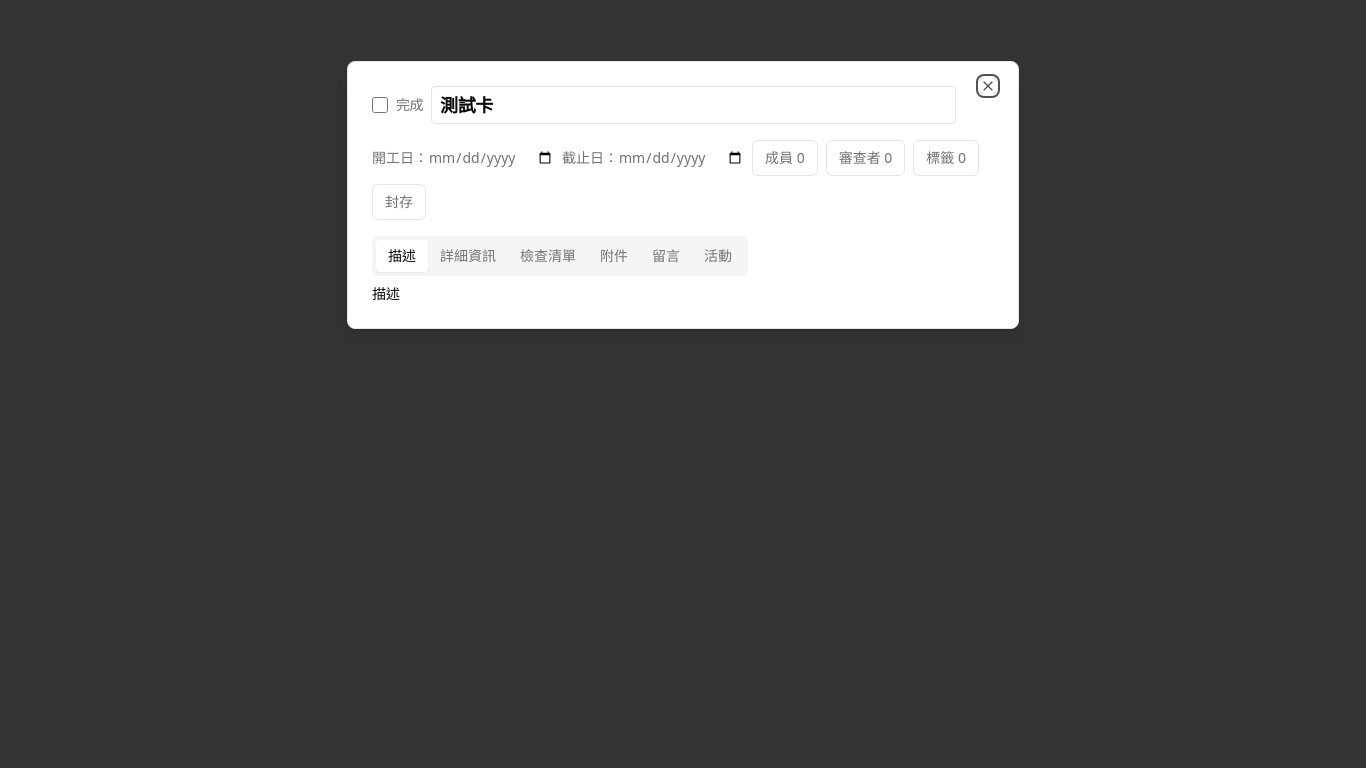
Test: 成員/標籤樂觀 toggle（#10） › 連點競態：快速 toggle 序列以最新 cache 計算 payload，最終 members 為 {B} 且 checkbox 回應前翻動
Press the mouse on the button "成員 0" at (785, 158), box [752,140,818,176]
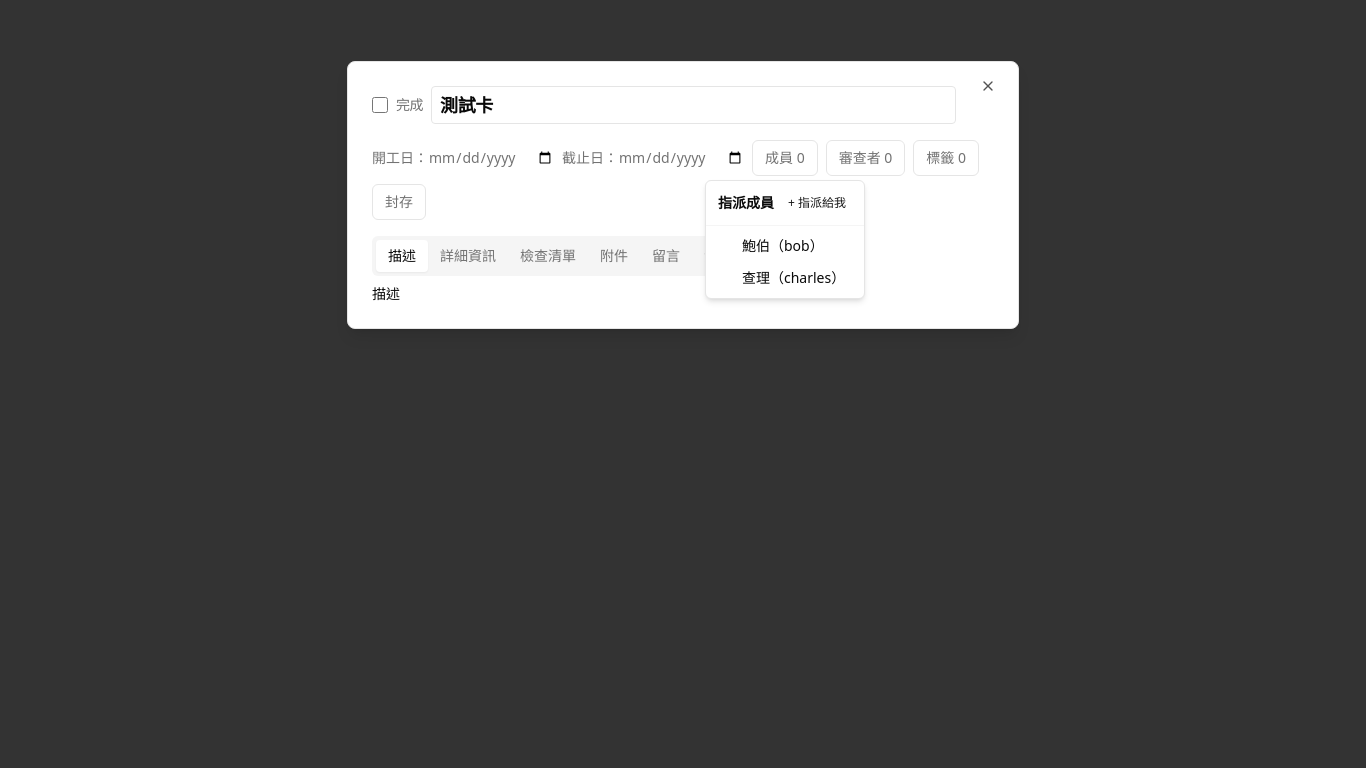
Click the menu item "鮑伯（bob）".
click(783, 246)  # box [742,236,824,255]
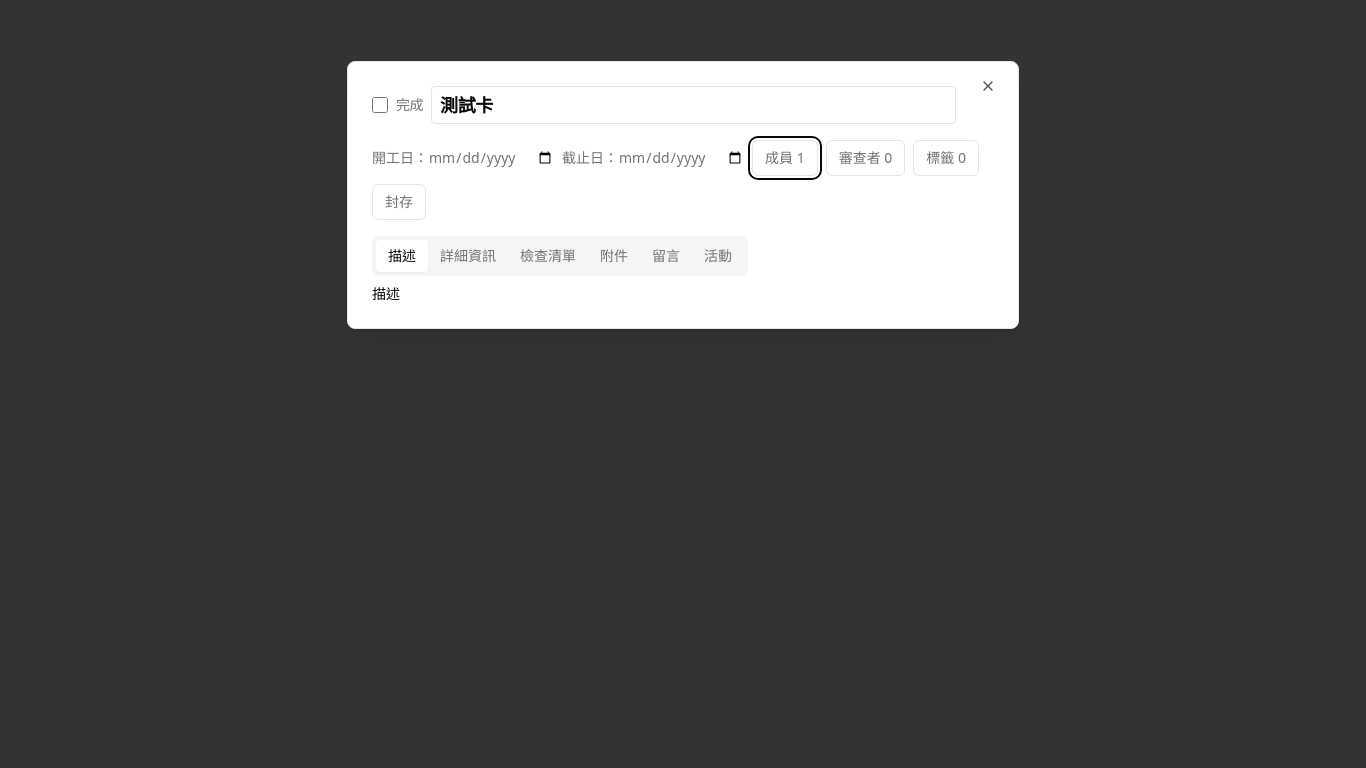
Check: the button "成員 1" is shown
Press the mouse on the button "成員 1" at (785, 158), box [752,140,818,176]
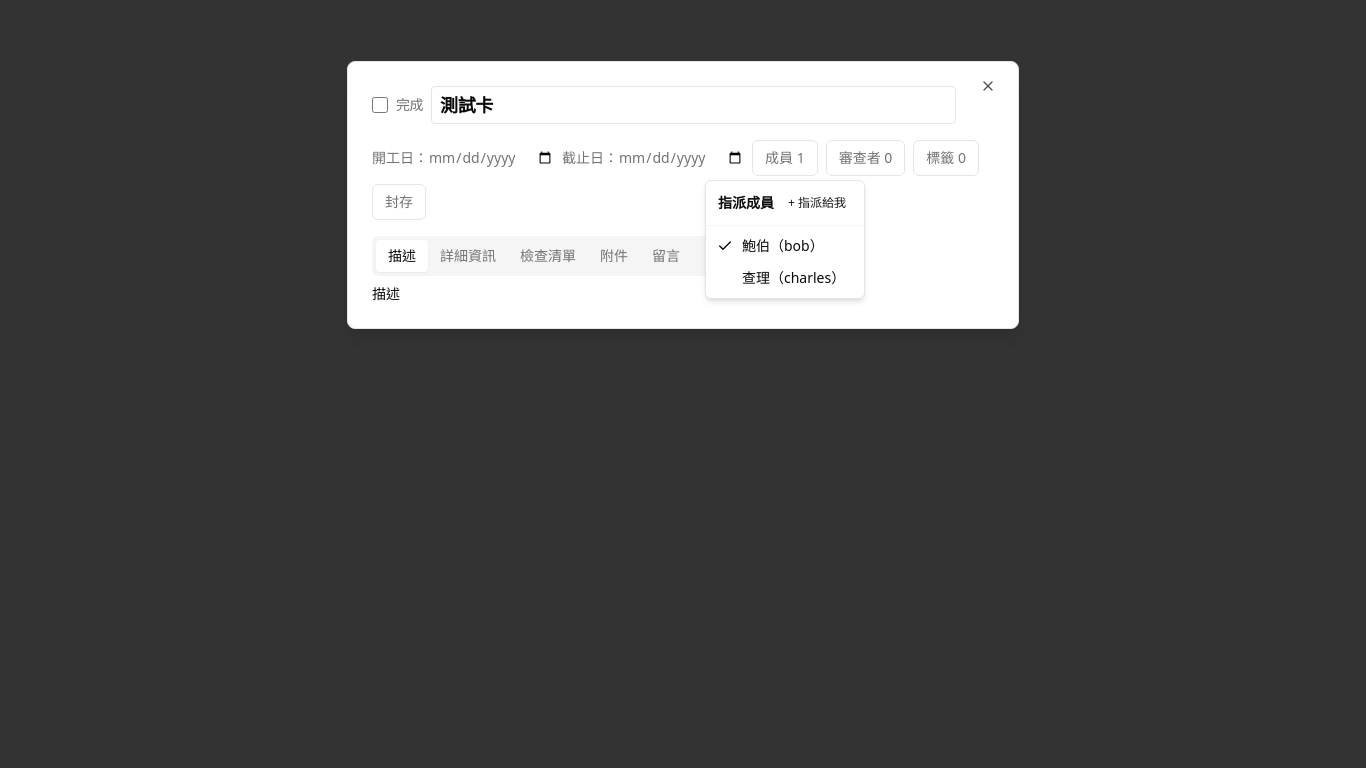
Click the menu item "查理（charles）".
click(794, 278)  # box [742,268,845,287]
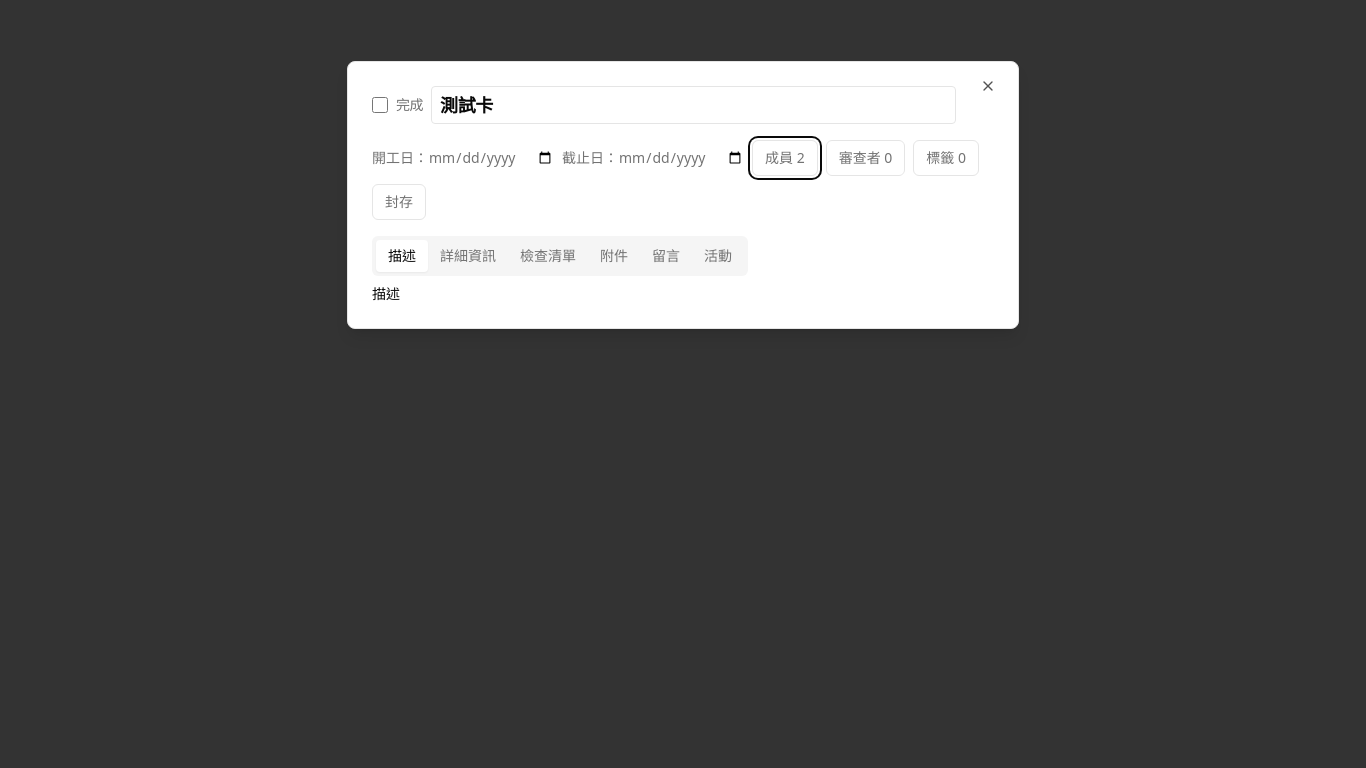
Check: the button "成員 2" is shown
Press the mouse on the button "成員 2" at (785, 158), box [752,140,818,176]
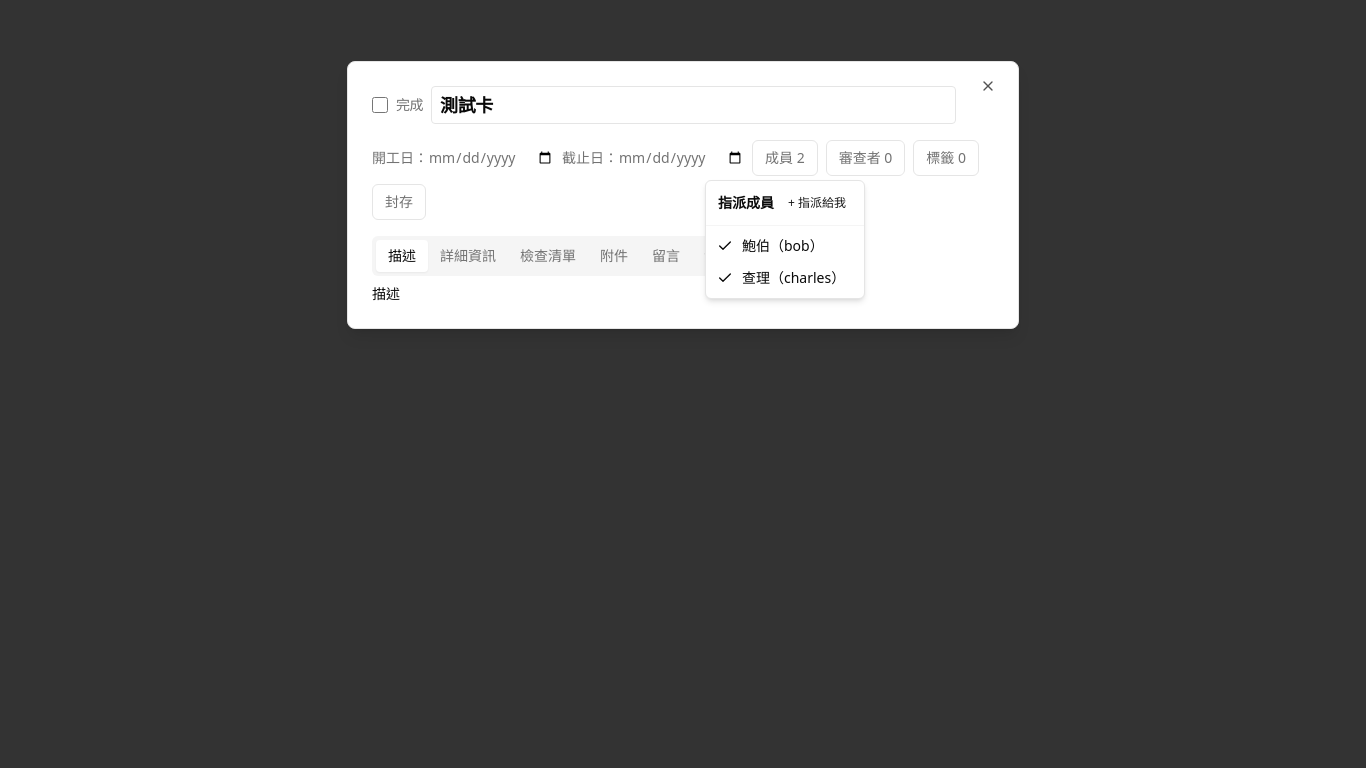
Click the menu item "鮑伯（bob）".
click(770, 246)  # box [717,236,824,255]
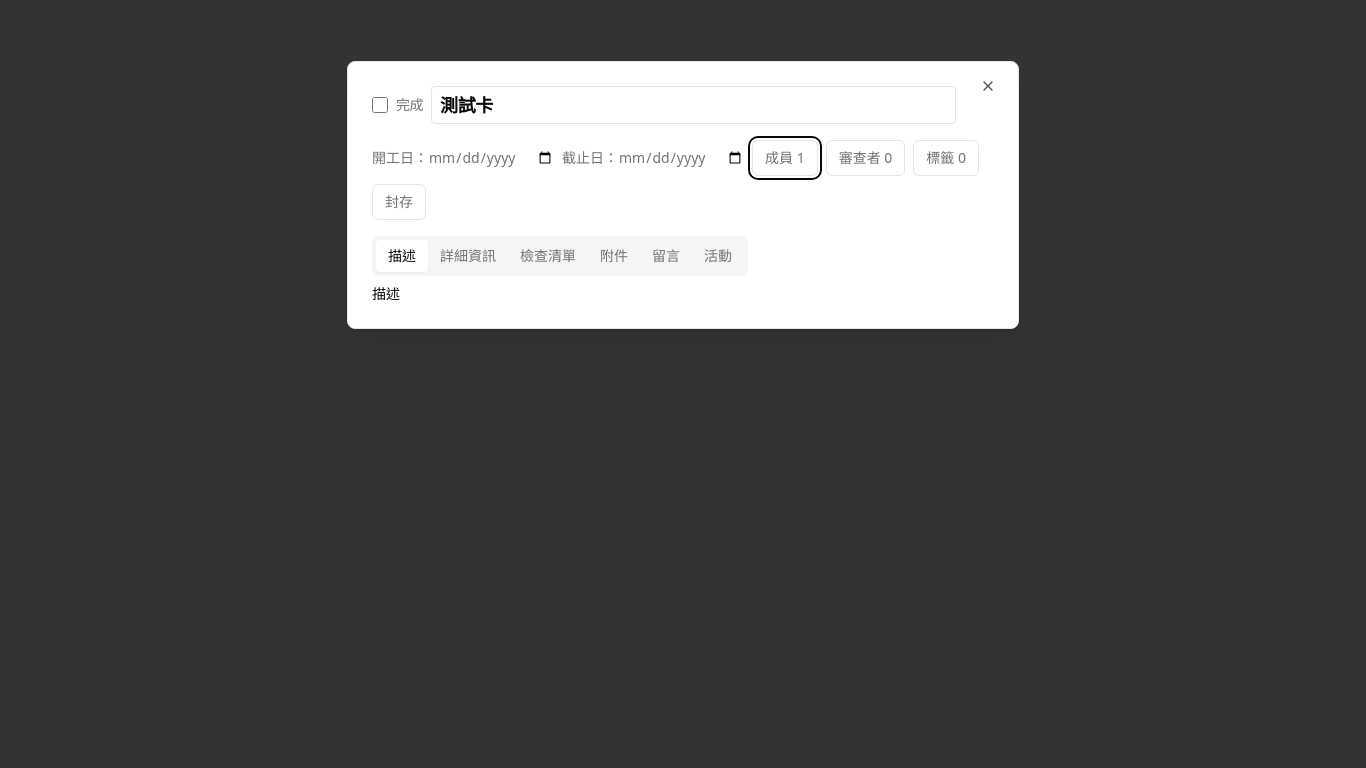
Check: the button "成員 1" is shown, box [752,140,818,176]
